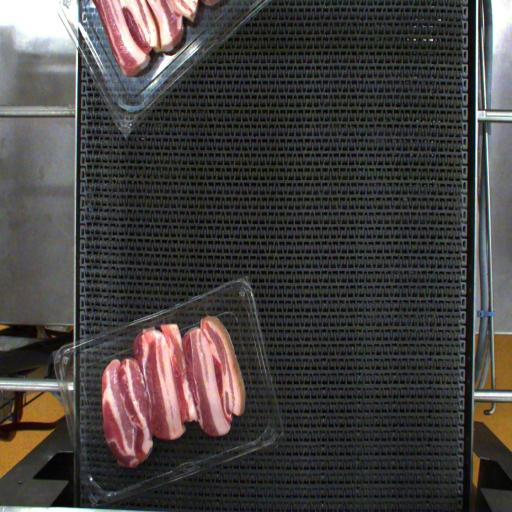packaging-error: (164, 322, 204, 431)
